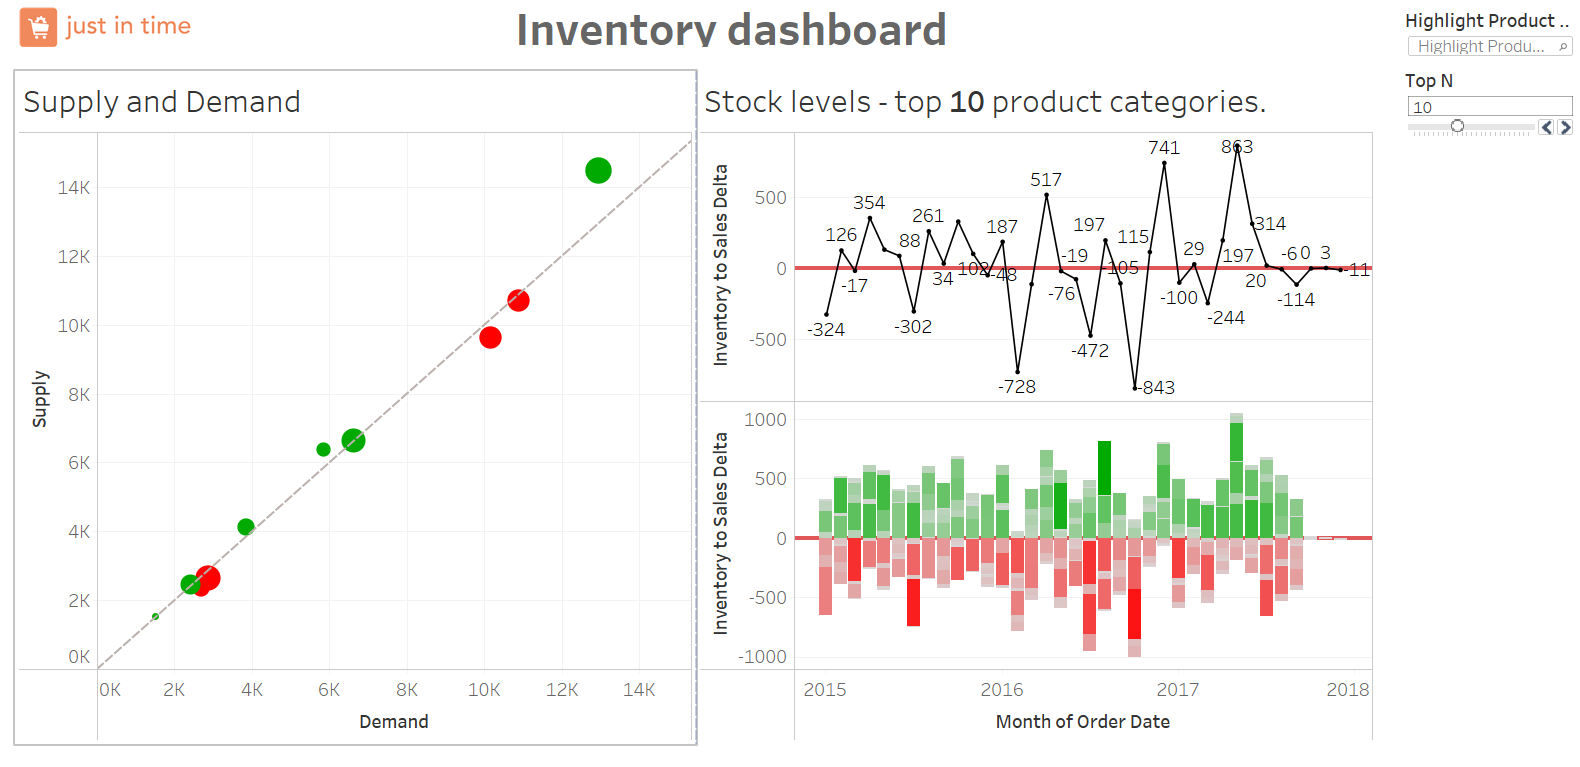

This screenshot's page, from the dashboard's own definition file:
{"tool":"tableau","page":{"name":"Inventory dashboard","canvas":[1000,1000],"units":"permille","ordinal":0},"visuals":[{"type":"blank","box":[5,10.3,14.4,953.9]},{"type":"image","param":"Image/JIT_LOGO.PNG","box":[19.4,10.3,306.9,61.6]},{"type":"text","box":[326.2,10.3,542.4,61.6]},{"type":"blank","box":[868.6,10.3,14.8,953.9]},{"type":"highlighter","title":"Stock levels","param":"[federated.19ygq9l0xg1jf01fjcc2w0el0qod].[none:Product Category:nk]","box":[883.4,10.3,111.6,77.2]},{"type":"blank","box":[19.4,71.9,849.2,25.3]},{"type":"parameter","param":"[Parameters].[Parameter 1]","box":[883.4,87.5,111.6,106.8]},{"type":"worksheet","title":"Supply and Demand","mark":"Automatic","rows":["Warehouse Inventory "],"cols":["Order Quantity","Warehouse Inventory "],"box":[19.4,97.2,424.5,867]},{"type":"worksheet","title":"Stock levels","mark":"Automatic","rows":["Calculation_1614540489502818304","Calculation_1614540489502818304"],"cols":["Calculation_1157143648585805825"],"box":[443.8,97.2,424.8,867]},{"type":"blank","box":[5,964.2,878.4,25.5]}]}

Visuals, with their boxes on the dashboard's canvas, which has no fixed pixel size, in thousandths of its width and height (x1, y1, x2, y2). These are canvas units, not pixel positions in the 1580x767 screenshot, which may show the page scaled, cropped or inside an application window:
blank: left=5, top=10, right=19, bottom=964
image: left=19, top=10, right=326, bottom=72
text: left=326, top=10, right=869, bottom=72
blank: left=869, top=10, right=883, bottom=964
"Stock levels" highlighter: left=883, top=10, right=995, bottom=88
blank: left=19, top=72, right=869, bottom=97
parameter: left=883, top=88, right=995, bottom=194
"Supply and Demand" worksheet: left=19, top=97, right=444, bottom=964
"Stock levels" worksheet: left=444, top=97, right=869, bottom=964
blank: left=5, top=964, right=883, bottom=990
